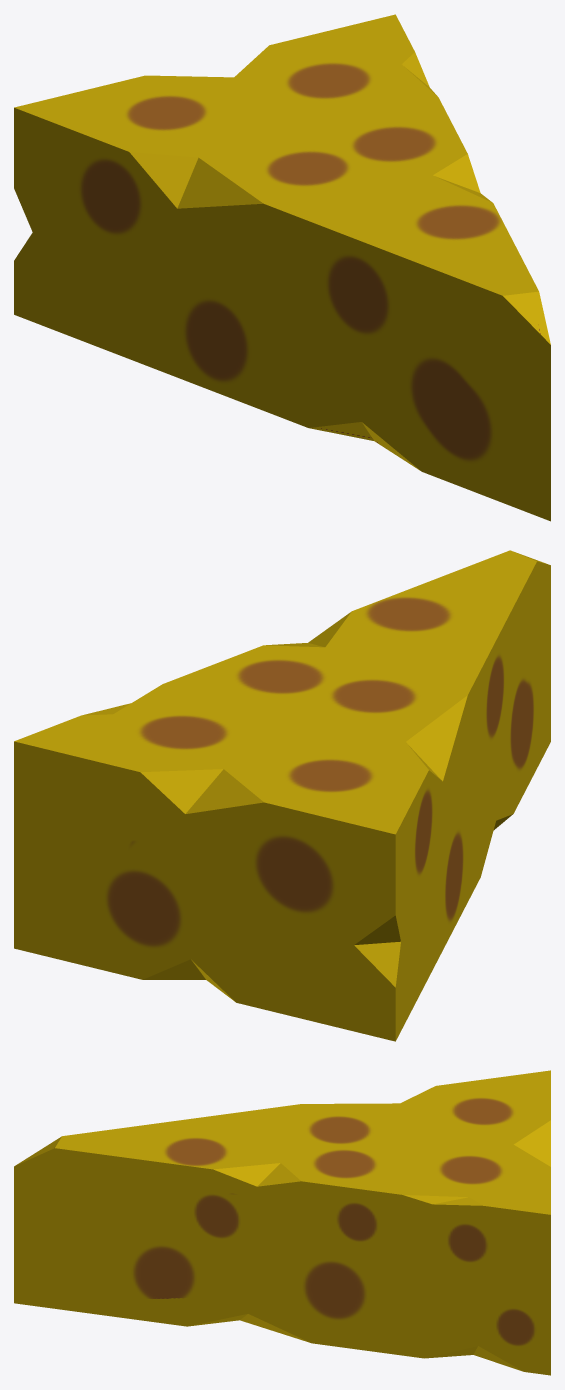
3 views of the same model, one above another, from view 1: azimuth 30°, elevation 25°; view 2: azimuth 150°, elevation 25°; view 3: azimuth 270°, elevation 25° (orthographic). The views are drawn at different scales.
Visible parts, largest first — view 1: Cheese; view 2: Cheese; view 3: Cheese.
Boxes of the visible parts, x1,y1,x2,y2 form: Cheese: (14,14,550,521); Cheese: (14,550,550,1041); Cheese: (14,1070,550,1375).
Bounding box in the file's own units: 2 × 1.04 × 3.14.
1 material, 1 textured.
